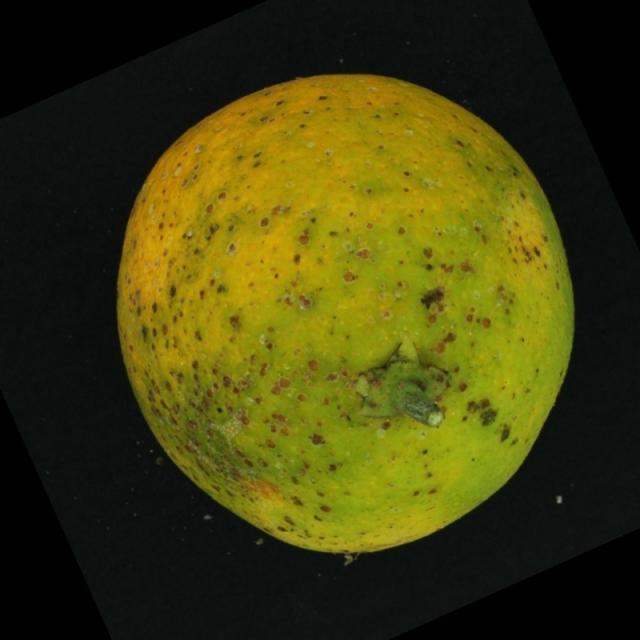grenning: (100, 64, 591, 581)
